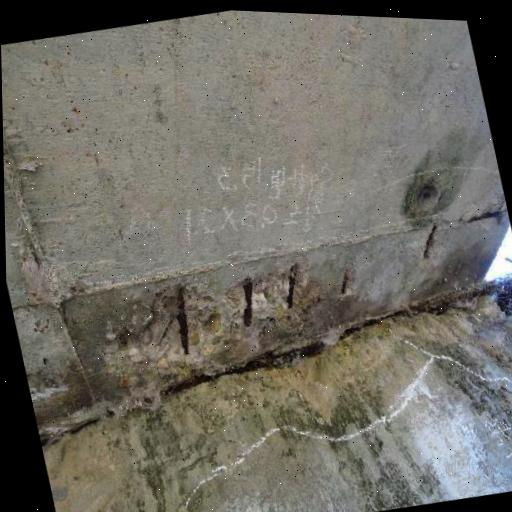exposed_rebar: (176, 288, 189, 354), (288, 263, 299, 308), (243, 279, 253, 326), (342, 270, 350, 294)
spalling: (104, 263, 355, 362)
